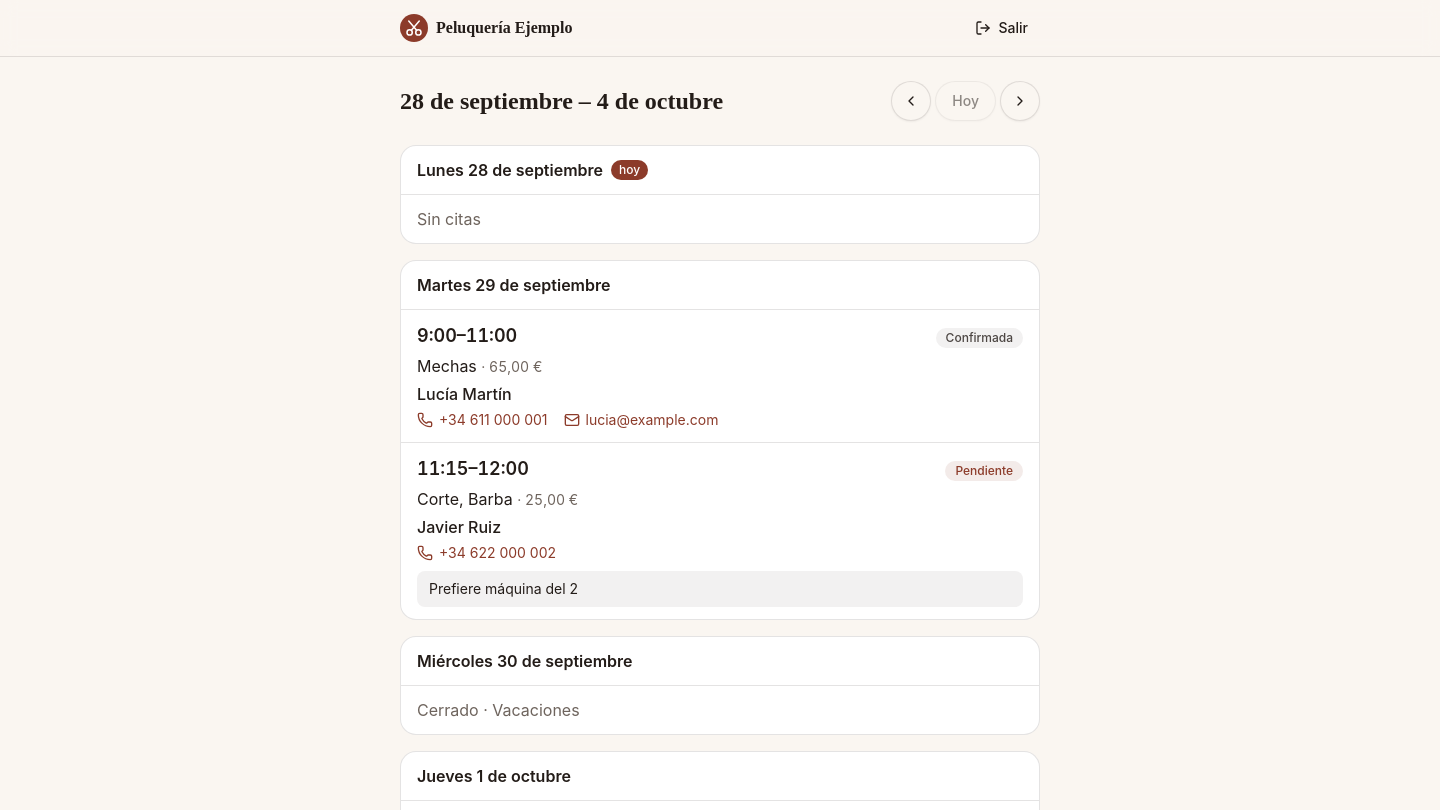
Test: Agenda del comercio › Salir borra la credencial y vuelve al acceso
The image size is (1440, 810).
Click the button "Salir".
click(1001, 28)  # box [962,8,1040,48]
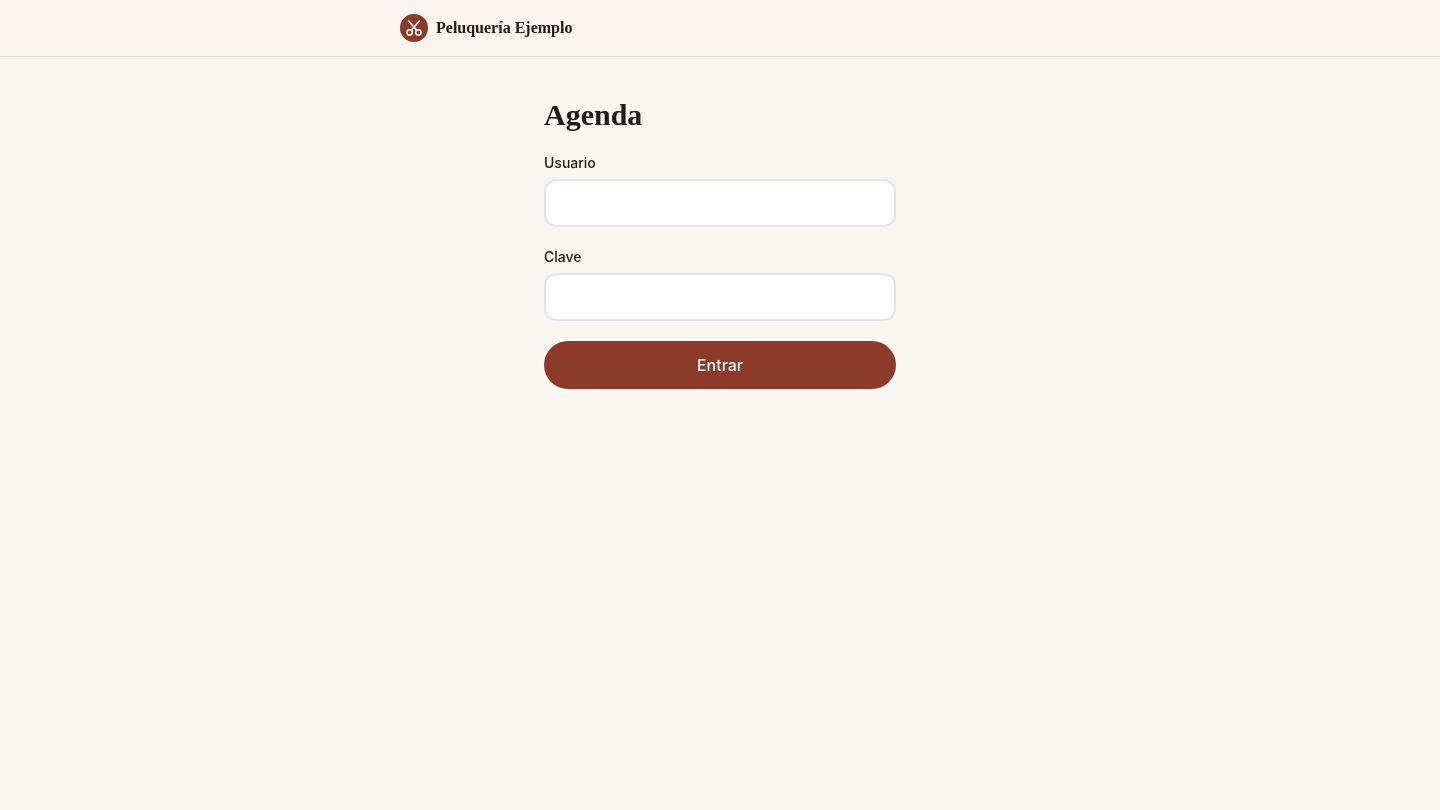
Check: the field labelled "Usuario" is shown, box [544,179,896,227]
